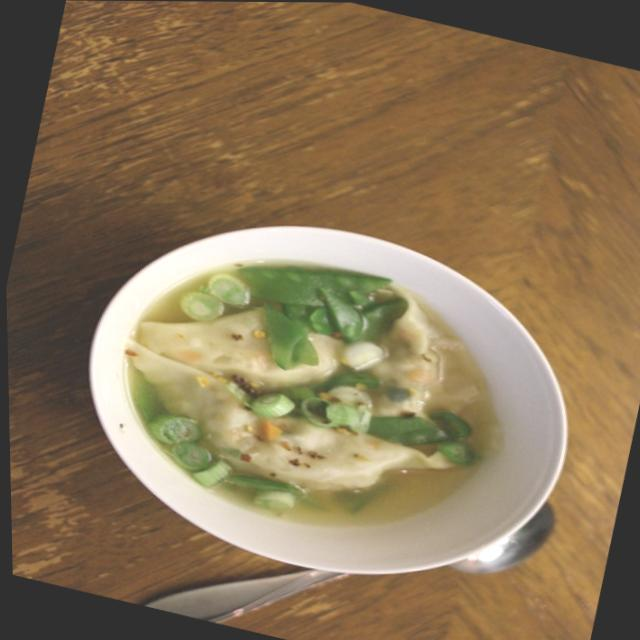汤锅炖物: (41, 153, 626, 640)
